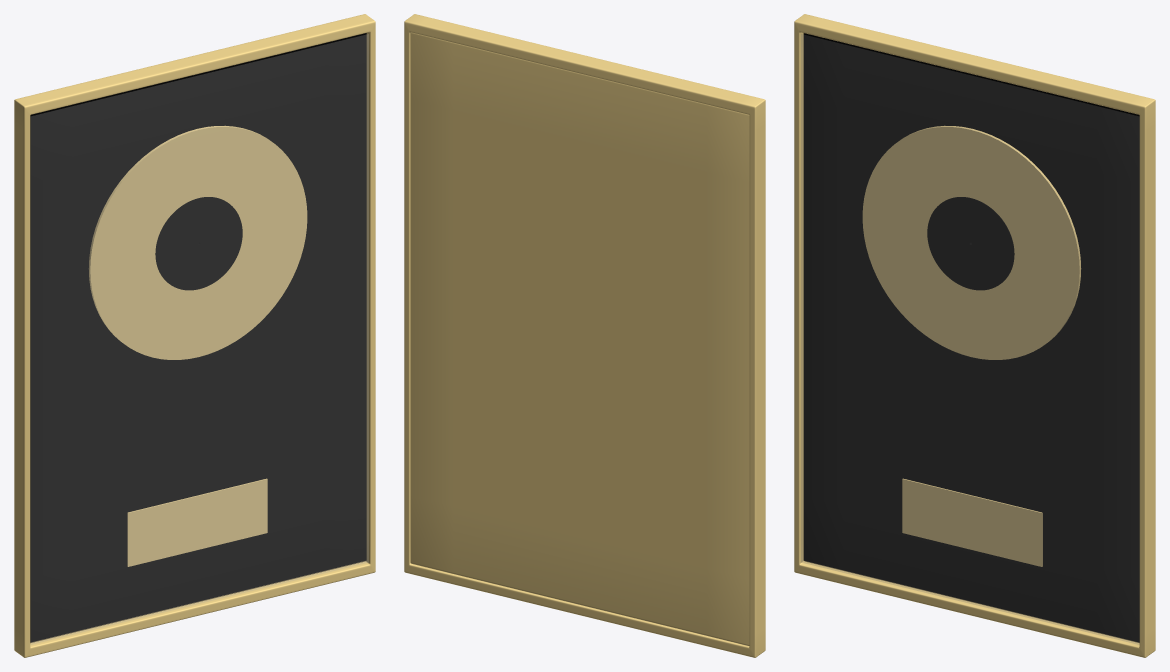
The picture shows the model from 3 angles, left to right: view 1: azimuth 30°, elevation 25°; view 2: azimuth 150°, elevation 25°; view 3: azimuth 330°, elevation 25°; orthographic projection.
Parts seen in each view (by area): view 1: Vitre, Fond, CentreDisque.001, Cadre, Plaquette, CentreDisque; view 2: Cadre; view 3: Vitre, Fond, CentreDisque.001, Cadre, Plaquette, CentreDisque.
Part boxes in pixels (left/top/right/bottom): Vitre: left=31, top=34, right=368, bottom=644; Fond: left=30, top=33, right=366, bottom=642; CentreDisque.001: left=88, top=125, right=307, bottom=359; Cadre: left=14, top=14, right=375, bottom=657; Plaquette: left=127, top=478, right=267, bottom=566; CentreDisque: left=155, top=197, right=242, bottom=290; Cadre: left=404, top=14, right=765, bottom=657; Vitre: left=801, top=34, right=1139, bottom=644; Fond: left=803, top=33, right=1139, bottom=642; CentreDisque.001: left=862, top=125, right=1081, bottom=359; Cadre: left=794, top=14, right=1155, bottom=657; Plaquette: left=902, top=478, right=1042, bottom=566; CentreDisque: left=927, top=197, right=1014, bottom=290.
Bounding box in the file's own units: 24.29 × 36.42 × 1.31.
5 materials, 1 textured.
